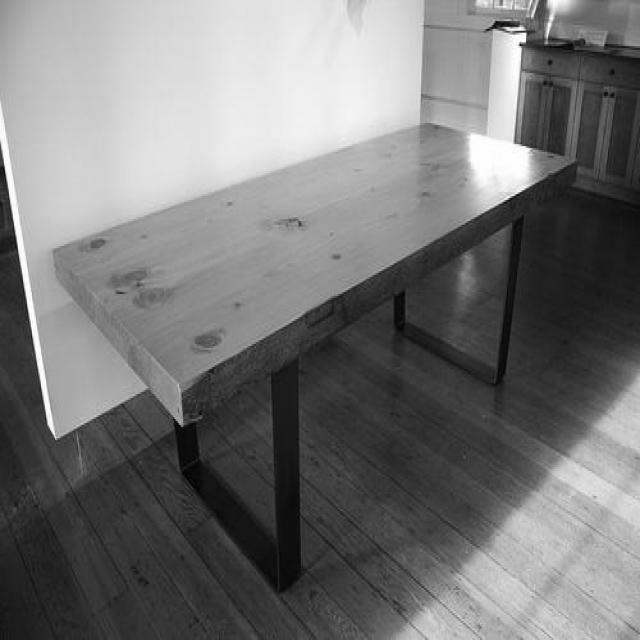table: (51, 122, 578, 593)
